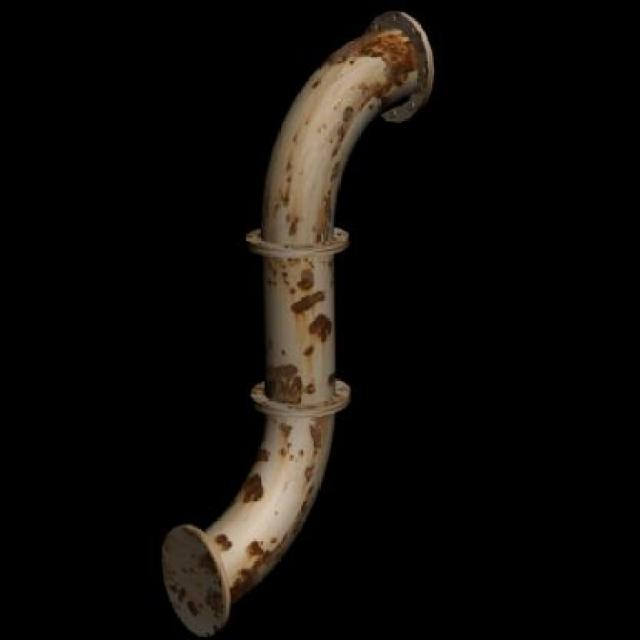corrosion: (158, 4, 436, 634)
